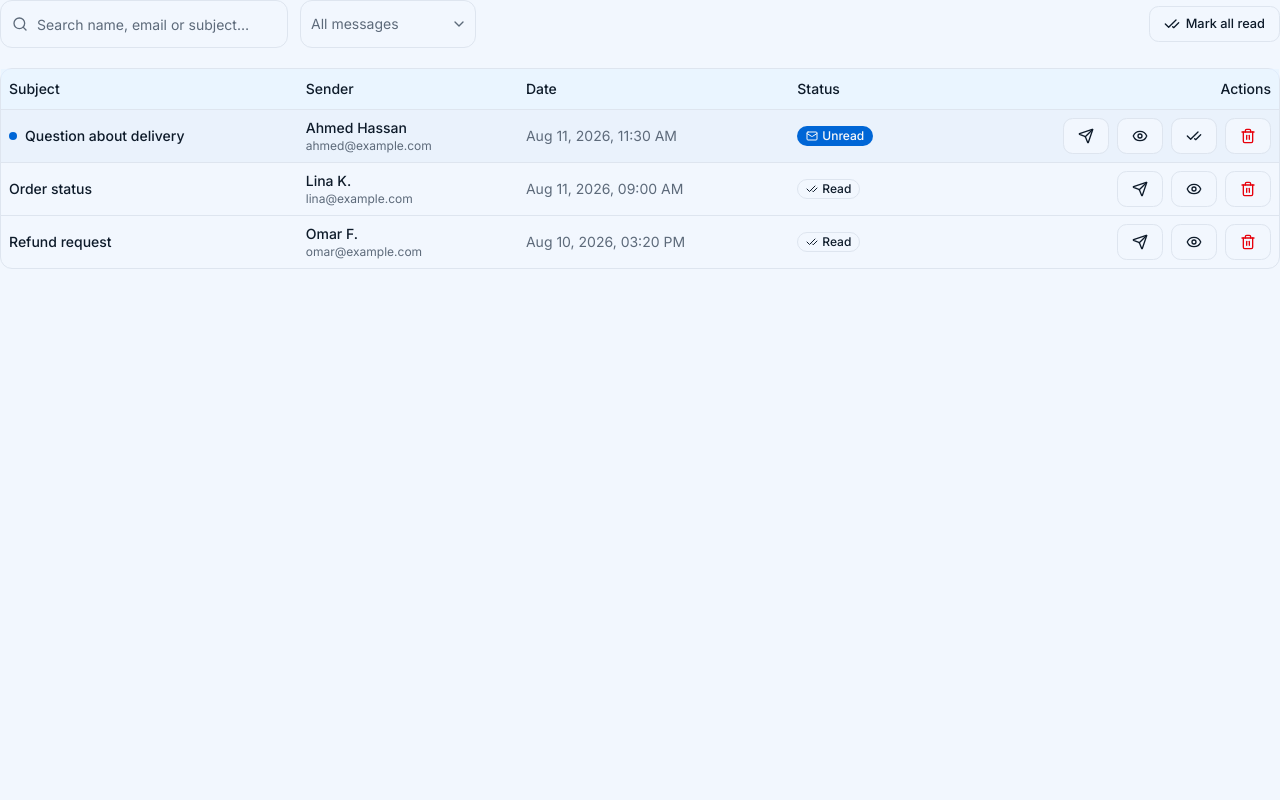
Test: MessagesList › opens the reply dialog with the subject prefilled
Expected: the text "Question about delivery" is shown, [25, 126, 184, 146]
Click the button named "Reply" in the row of "Ahmed Hassan" at x=1086, y=136, box [1063, 118, 1109, 154]
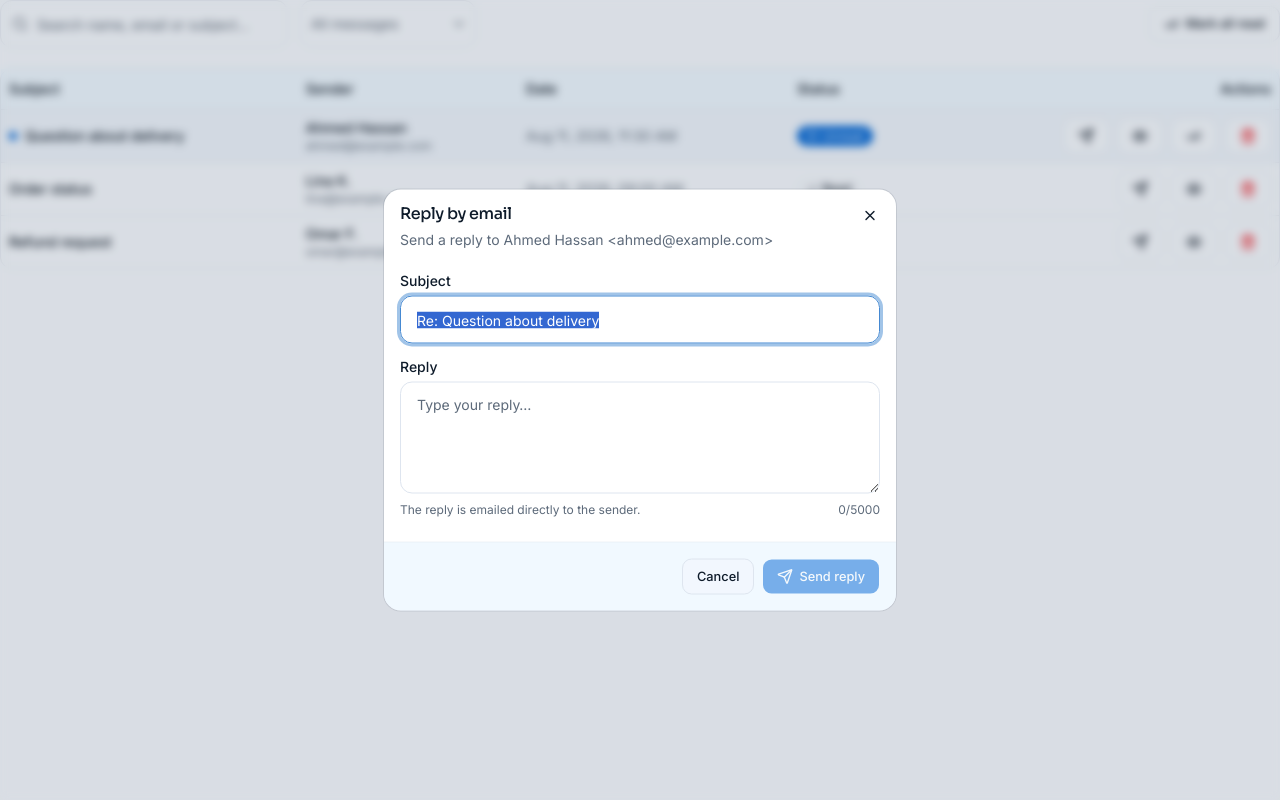
Now the dialog "Reply by email" is shown, box [384, 190, 896, 610]
Now the field labelled "Subject" holds "Re: Question about delivery", box [400, 296, 880, 344]
